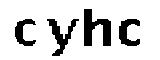c: (118, 17, 145, 50), (12, 18, 38, 47)
h: (79, 7, 115, 51)
y: (43, 15, 79, 60)
